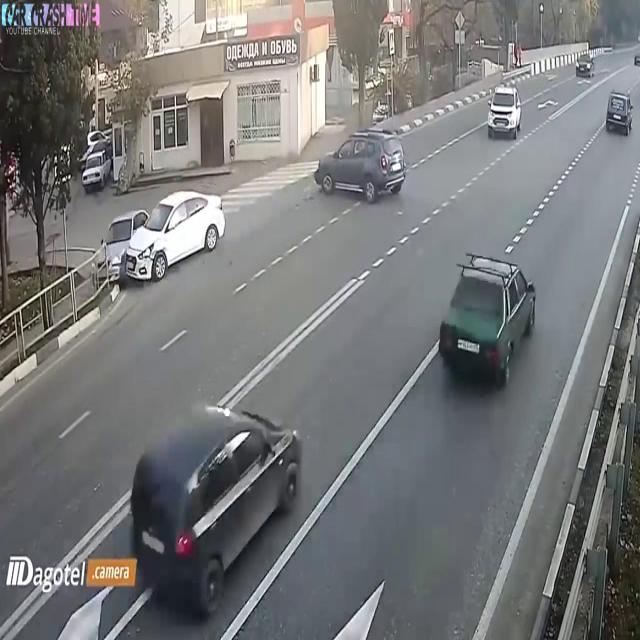accident: (88, 184, 228, 293)
